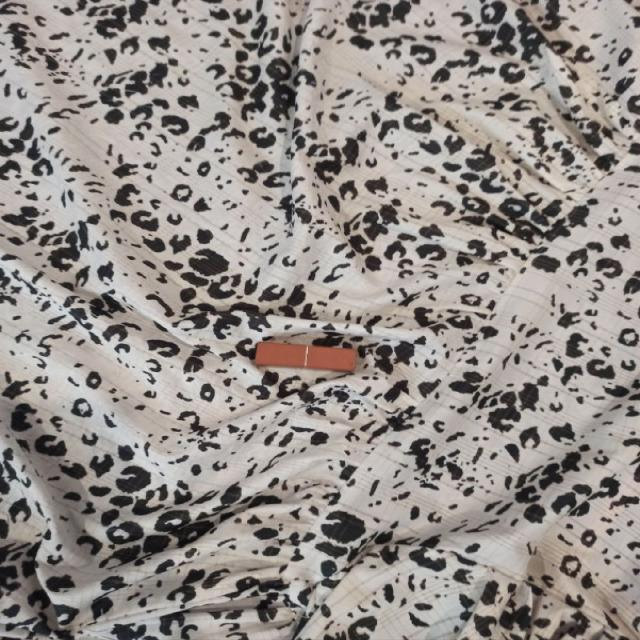lipstick: (252, 341, 358, 373)
